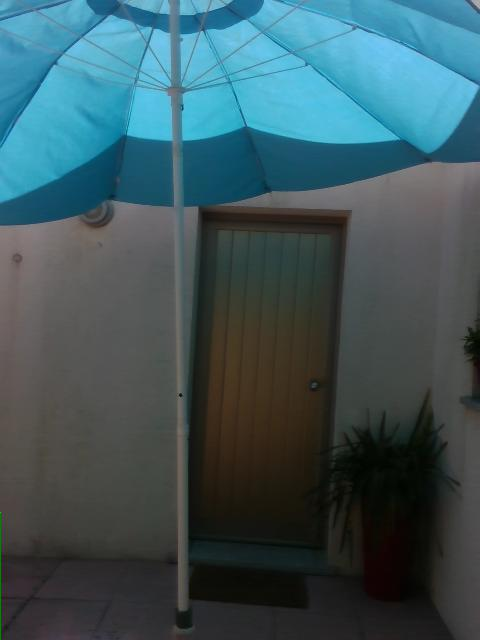door: (186, 201, 353, 567)
